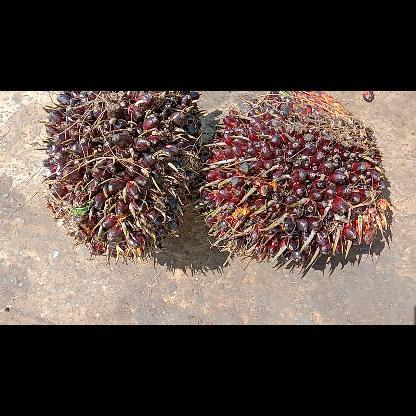TBS mentah: (202, 91, 390, 271), (43, 91, 199, 259)
